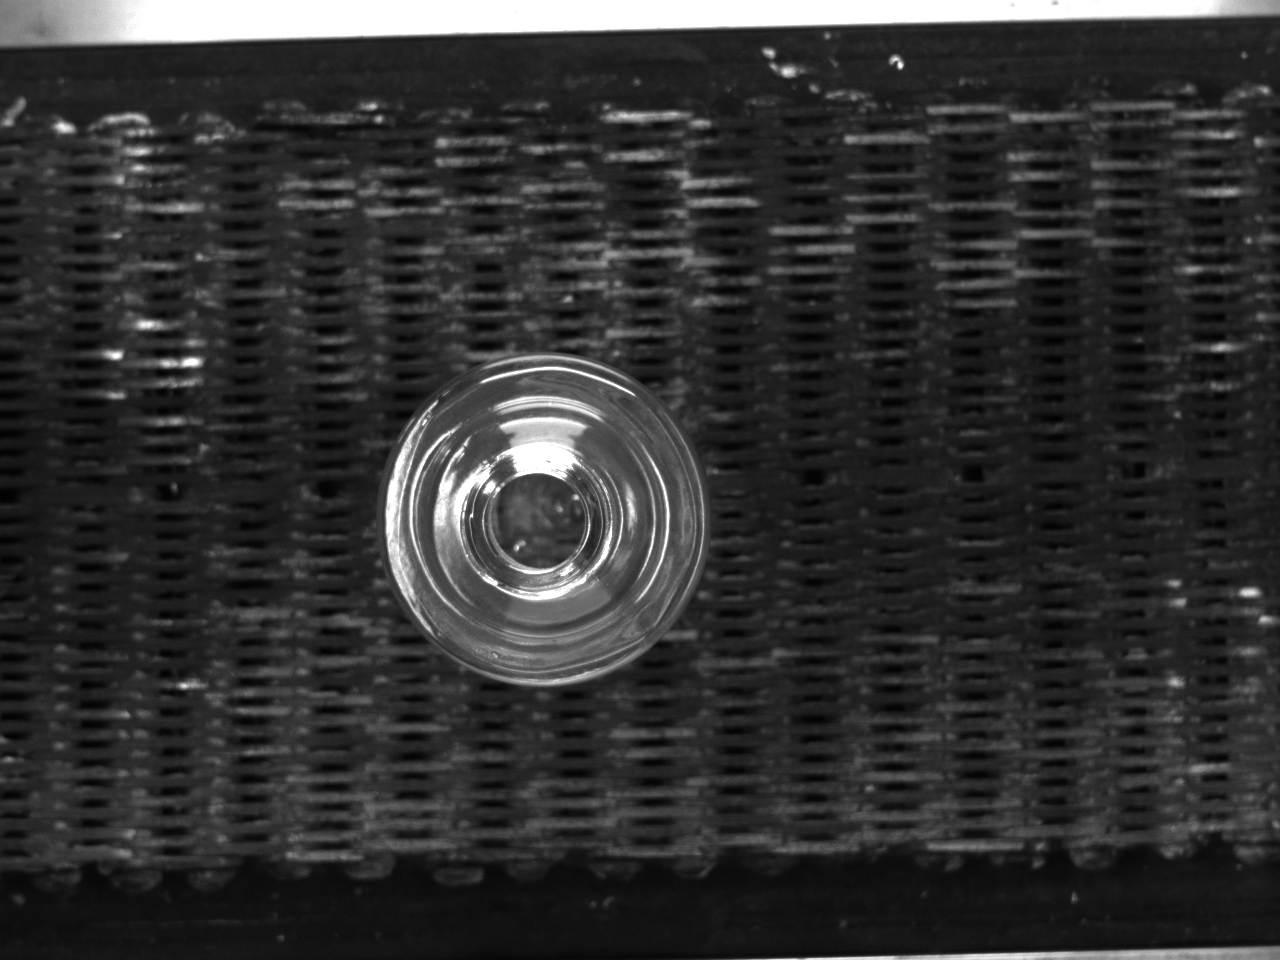bottleneck: (461, 445, 614, 600)
